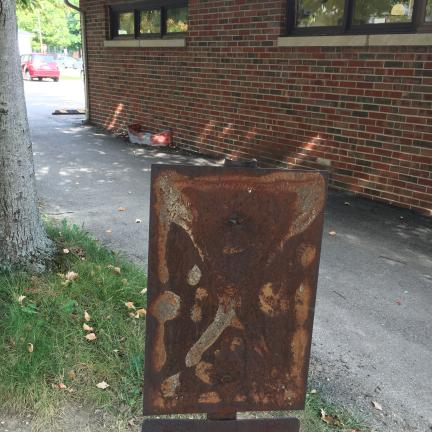karat: (143, 160, 328, 431)
